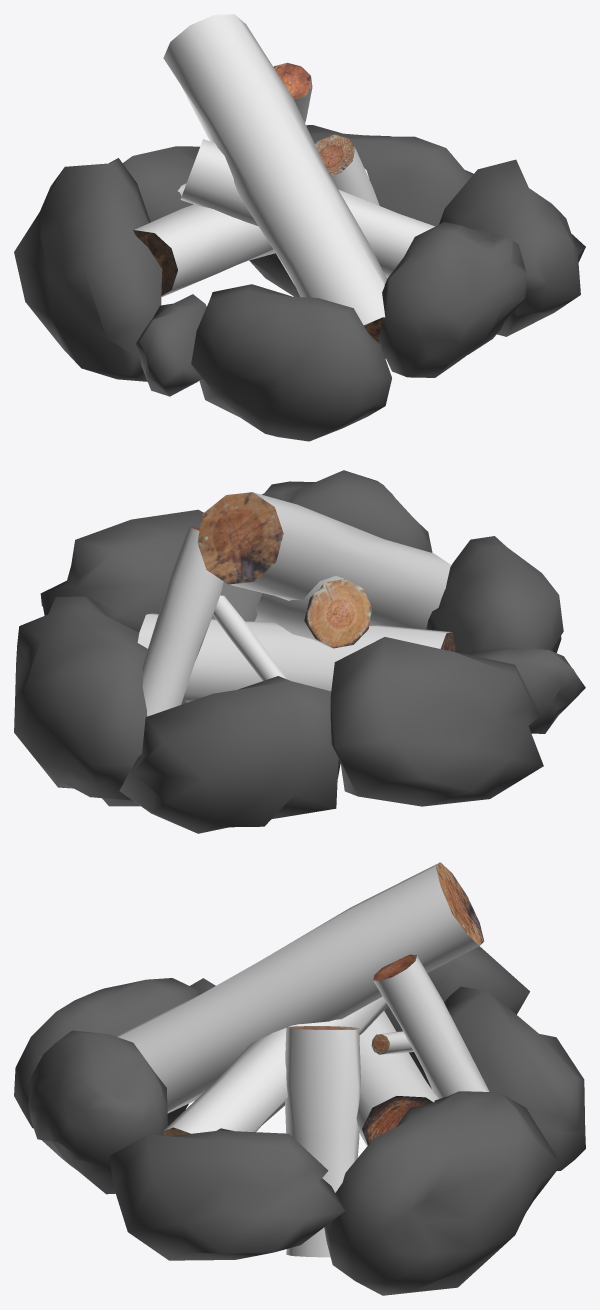
The model's file is campfire.fbx.
3 renders of one model, top to bottom at view 1: azimuth 30°, elevation 25°; view 2: azimuth 150°, elevation 25°; view 3: azimuth 270°, elevation 25°, orthographic. The views are drawn at different scales.
Parts seen in each view (by area): view 1: Rocks, Trunks, Trunks_cut; view 2: Rocks, Trunks, Trunks_cut; view 3: Rocks, Trunks, Trunks_cut.
Part boxes in pixels (box(x1,y1,x2,y2)): Rocks: box(14, 125, 585, 441); Trunks: box(134, 14, 435, 324); Trunks_cut: box(133, 62, 385, 358); Rocks: box(14, 470, 585, 833); Trunks: box(137, 492, 451, 716); Trunks_cut: box(189, 492, 455, 651); Rocks: box(14, 946, 585, 1295); Trunks: box(116, 862, 489, 1257); Trunks_cut: box(163, 862, 484, 1144).
Size of the model in its own units: 246 by 156 by 238.
Materials: 3 (1 with a texture image).
